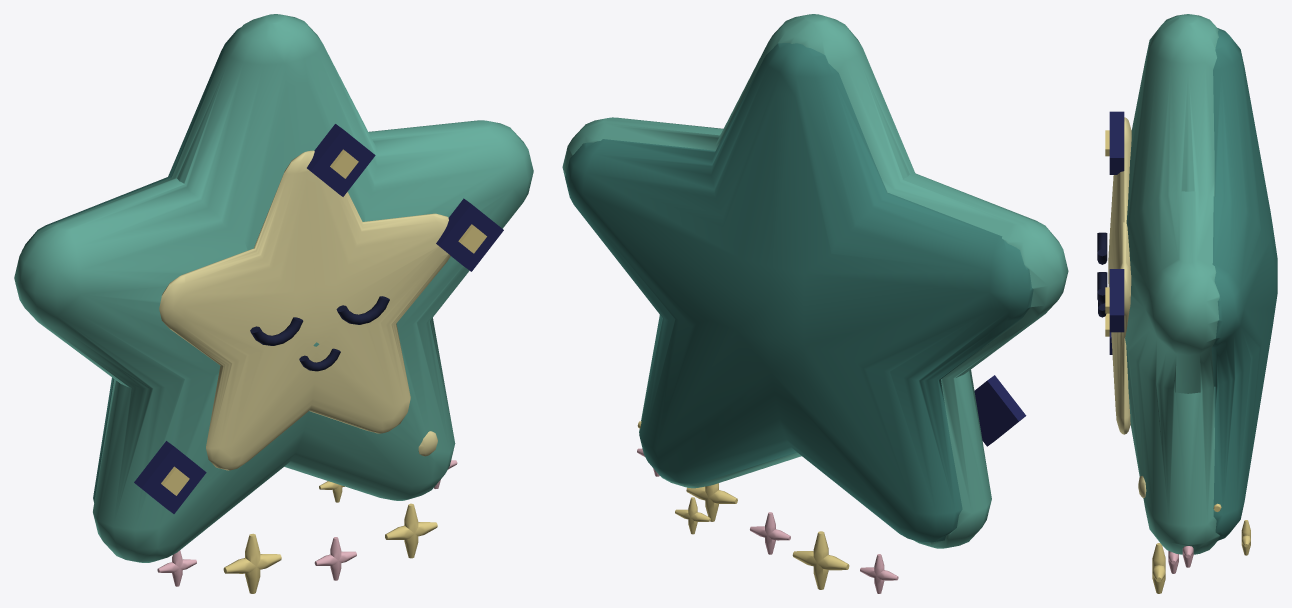
Rendered from twinklit.glb.
The picture shows the model from 3 angles, left to right: view 1: azimuth 30°, elevation 25°; view 2: azimuth 150°, elevation 25°; view 3: azimuth 270°, elevation 25°; orthographic projection. The views are drawn at different scales.
Parts seen in each view (by area): view 1: creature; view 2: creature; view 3: creature.
Part boxes in pixels (x1,y1,x2,y2): creature: [14, 14, 533, 593]; creature: [562, 14, 1068, 593]; creature: [1097, 14, 1277, 593].
Bounding box in the file's own units: 0.9237 × 1 × 0.3045.
